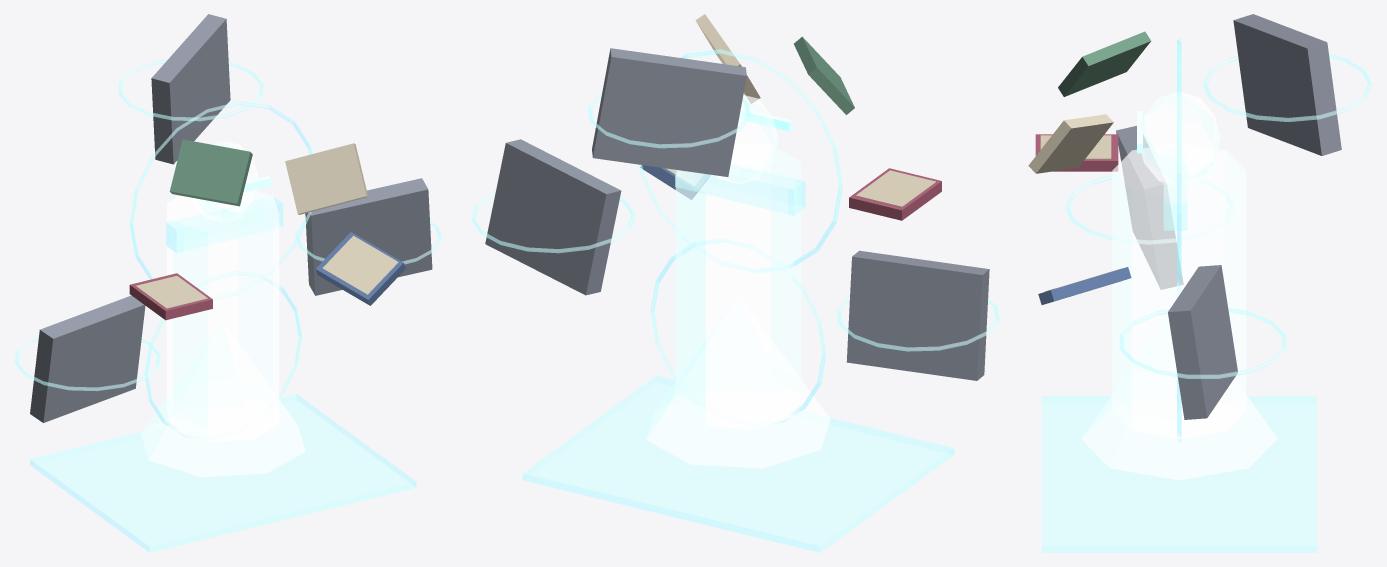
Rendered from grand_archivist.glb.
3 views of the same model, side by side, from view 1: azimuth 30°, elevation 25°; view 2: azimuth 150°, elevation 25°; view 3: azimuth 270°, elevation 25° (orthographic). The views are drawn at different scales.
Parts seen in each view (by area): view 1: infinite_archives_holo_floor_tile, archivist_hologram_robed_torso, archivist_hologram_lower_robe, anti_gravity_barricade_slab_1, anti_gravity_barricade_slab_2, anti_gravity_barricade_slab_3, floating_archive_book_4_cover, floating_archive_book_3_cover, archivist_regal_collar, floating_archive_book_2_pages, archivist_projection_scan_ring_high, floating_archive_book_2_cover (+6 smaller); view 2: infinite_archives_holo_floor_tile, archivist_hologram_robed_torso, archivist_hologram_lower_robe, anti_gravity_barricade_slab_1, anti_gravity_barricade_slab_3, anti_gravity_barricade_slab_2, archivist_regal_collar, archivist_hologram_head, archivist_projection_scan_ring_high, archivist_projection_scan_ring_low, floating_archive_book_3_cover, floating_archive_book_1_pages (+6 smaller); view 3: infinite_archives_holo_floor_tile, archivist_hologram_robed_torso, archivist_hologram_lower_robe, anti_gravity_barricade_slab_3, anti_gravity_barricade_slab_2, archivist_hologram_head, anti_gravity_barricade_slab_1, floating_archive_book_4_cover, floating_archive_book_3_cover, barricade_gravity_field_ring_2, barricade_gravity_field_ring_3, archivist_projection_scan_ring_high (+5 smaller).
Part boxes in pixels (box(x1,y1,x2,y2)): infinite_archives_holo_floor_tile: box(30, 394, 416, 552); archivist_hologram_robed_torso: box(167, 190, 279, 441); archivist_hologram_lower_robe: box(140, 322, 305, 477); anti_gravity_barricade_slab_1: box(30, 295, 145, 422); anti_gravity_barricade_slab_2: box(305, 178, 432, 295); anti_gravity_barricade_slab_3: box(151, 14, 230, 164); floating_archive_book_4_cover: box(285, 143, 368, 214); floating_archive_book_3_cover: box(169, 139, 252, 206); archivist_regal_collar: box(166, 197, 283, 252); floating_archive_book_2_pages: box(322, 235, 398, 294); archivist_projection_scan_ring_high: box(129, 101, 312, 300); floating_archive_book_2_cover: box(315, 232, 405, 305); infinite_archives_holo_floor_tile: box(522, 375, 954, 552); archivist_hologram_robed_torso: box(675, 144, 801, 428); archivist_hologram_lower_robe: box(646, 295, 830, 468); anti_gravity_barricade_slab_1: box(846, 250, 989, 380); anti_gravity_barricade_slab_3: box(592, 48, 746, 176); anti_gravity_barricade_slab_2: box(485, 139, 621, 295); archivist_regal_collar: box(675, 164, 805, 215); archivist_hologram_head: box(715, 95, 778, 183); archivist_projection_scan_ring_high: box(638, 49, 842, 272); archivist_projection_scan_ring_low: box(650, 238, 826, 424); floating_archive_book_3_cover: box(794, 36, 854, 114); floating_archive_book_1_pages: box(855, 170, 935, 206); infinite_archives_holo_floor_tile: box(1041, 396, 1316, 552); archivist_hologram_robed_torso: box(1112, 143, 1246, 439); archivist_hologram_lower_robe: box(1081, 316, 1277, 480); anti_gravity_barricade_slab_3: box(1233, 14, 1341, 155); anti_gravity_barricade_slab_2: box(1168, 265, 1237, 419); archivist_hologram_head: box(1141, 92, 1220, 185); anti_gravity_barricade_slab_1: box(1116, 126, 1183, 289); floating_archive_book_4_cover: box(1028, 114, 1113, 173); floating_archive_book_3_cover: box(1058, 31, 1150, 96); barricade_gravity_field_ring_2: box(1119, 307, 1286, 378); barricade_gravity_field_ring_3: box(1203, 53, 1372, 121); archivist_projection_scan_ring_high: box(1177, 39, 1181, 285).
Bounding box in the file's own units: 2.91 × 2.6 × 1.75.
